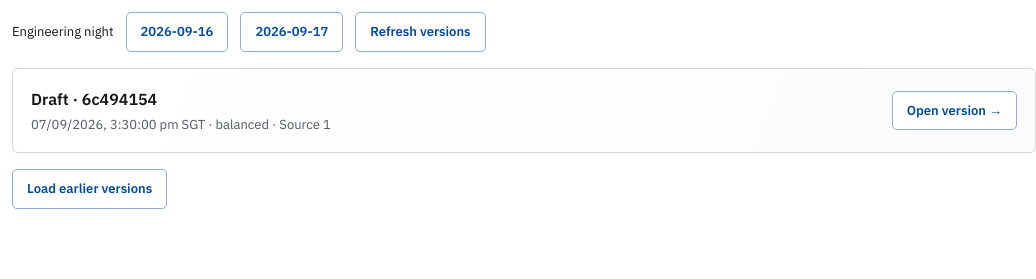
retains loaded versions when loading earlier history fails and allows retry
Expected: the link "Open version →" is shown, [892,90,1017,130]
Click the button "Load earlier versions". click: (90,189)
box: [12,169,167,208]
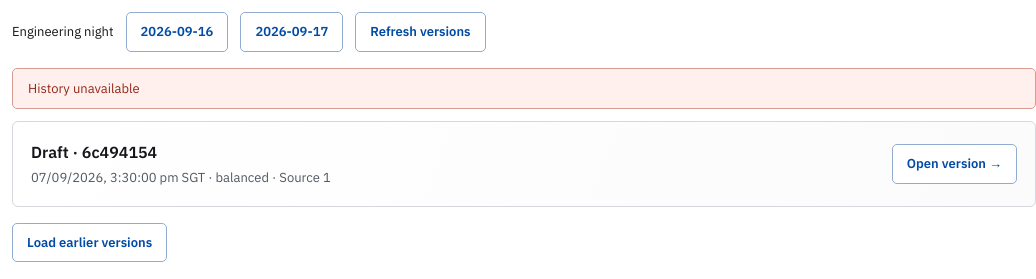
Expected: the link "Open version →" is shown, [892,144,1017,184]
Expected: the message reads "History unavailable", [28,80,140,96]
